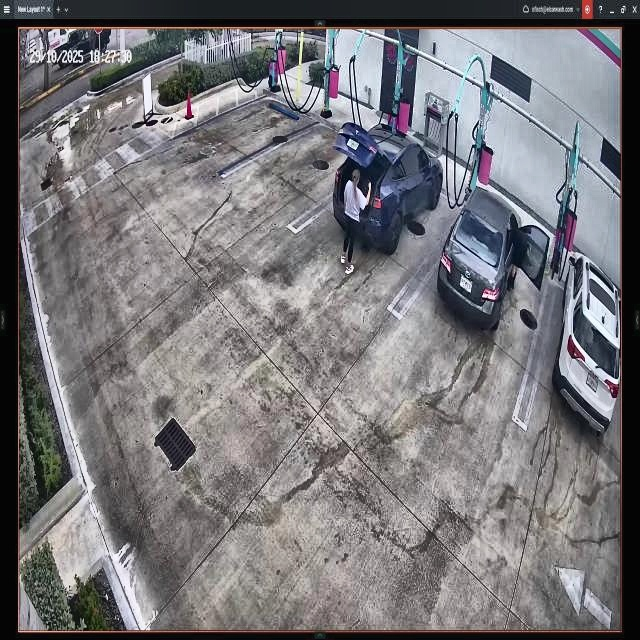Car: (438, 187, 546, 325), (334, 116, 442, 253)
